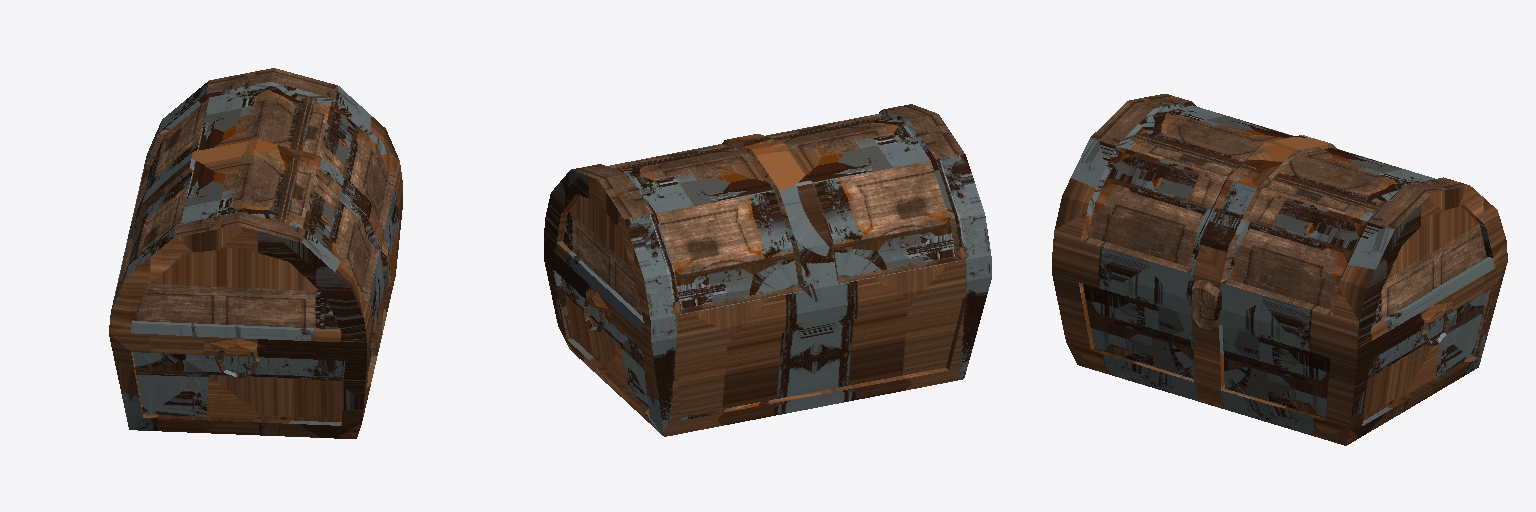
The picture shows the model from 3 angles: view 1: azimuth 30°, elevation 25°; view 2: azimuth 150°, elevation 25°; view 3: azimuth 270°, elevation 25°; orthographic projection.
Visible parts, largest first — view 1: treasure_chest_Cylinder.001; view 2: treasure_chest_Cylinder.001; view 3: treasure_chest_Cylinder.001.
Boxes of the visible parts, box(x1,y1,x2,y2) form: treasure_chest_Cylinder.001: box(109, 68, 402, 438); treasure_chest_Cylinder.001: box(544, 104, 991, 436); treasure_chest_Cylinder.001: box(1052, 94, 1507, 445).
Size of the model in its own units: 8.34 by 4.69 by 8.86.
Materials: 2 (1 with a texture image).